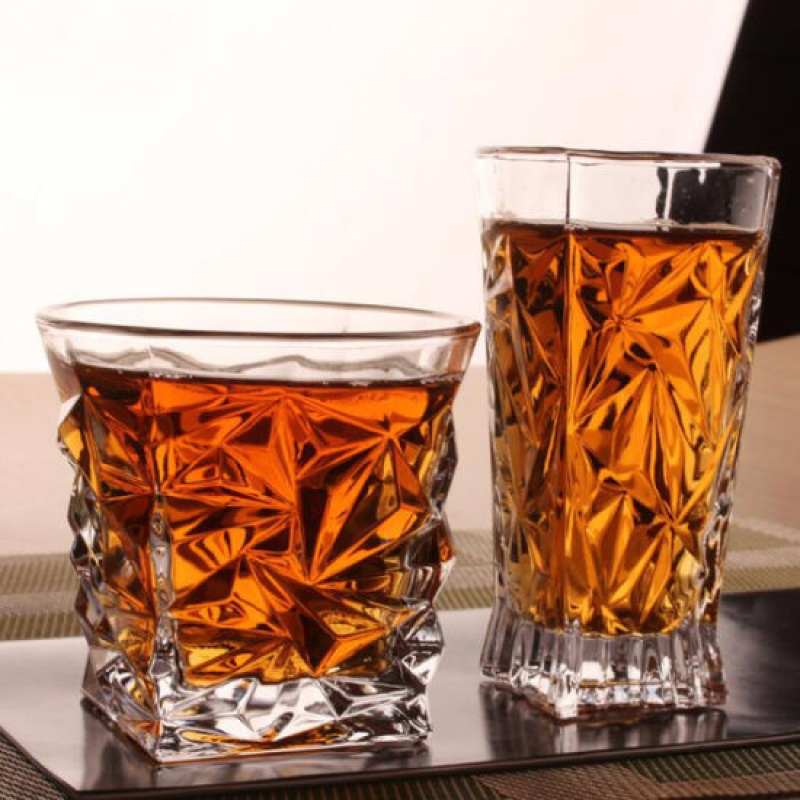whiskey: (39, 297, 481, 758), (461, 136, 743, 699)
